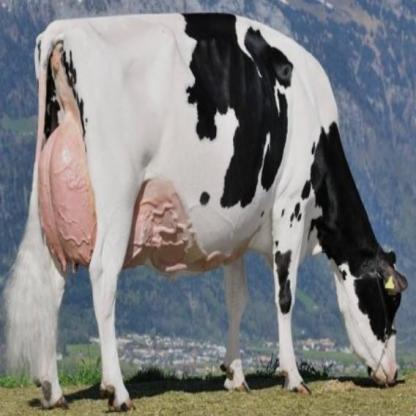cow: (37, 15, 400, 409)
